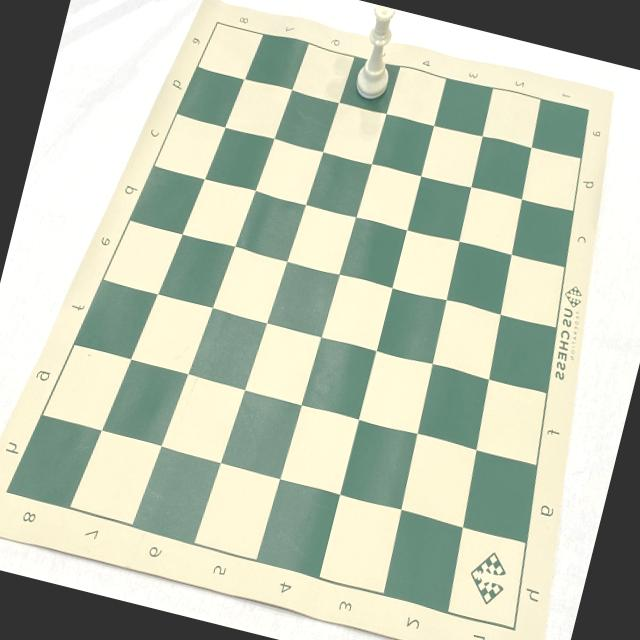white-queen: (352, 4, 406, 105)
